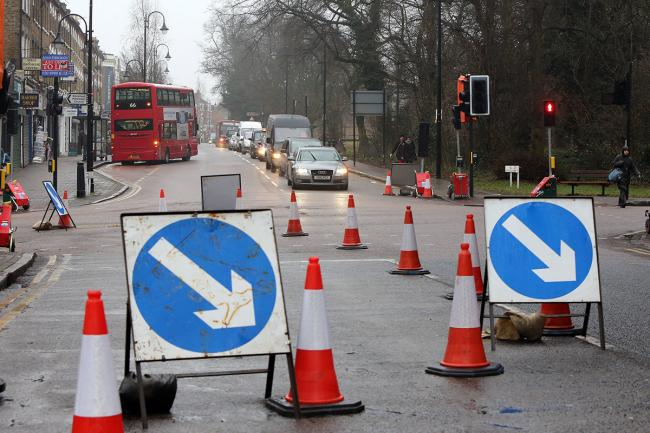cone: (257, 258, 367, 423), (52, 291, 144, 433), (423, 244, 506, 377), (442, 215, 490, 302), (387, 206, 429, 276), (334, 194, 372, 249), (279, 191, 310, 238), (54, 191, 73, 230), (378, 168, 397, 197)
